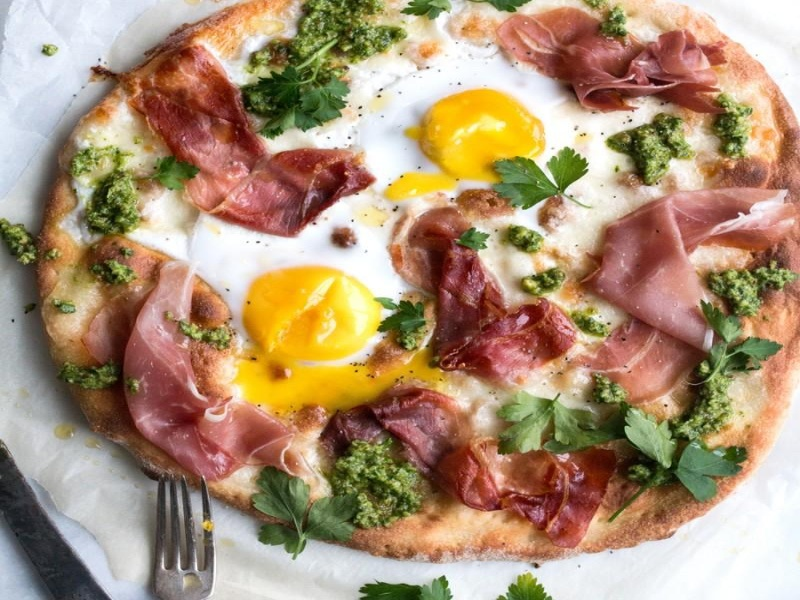oeuf: (226, 247, 394, 378), (406, 72, 562, 187)
